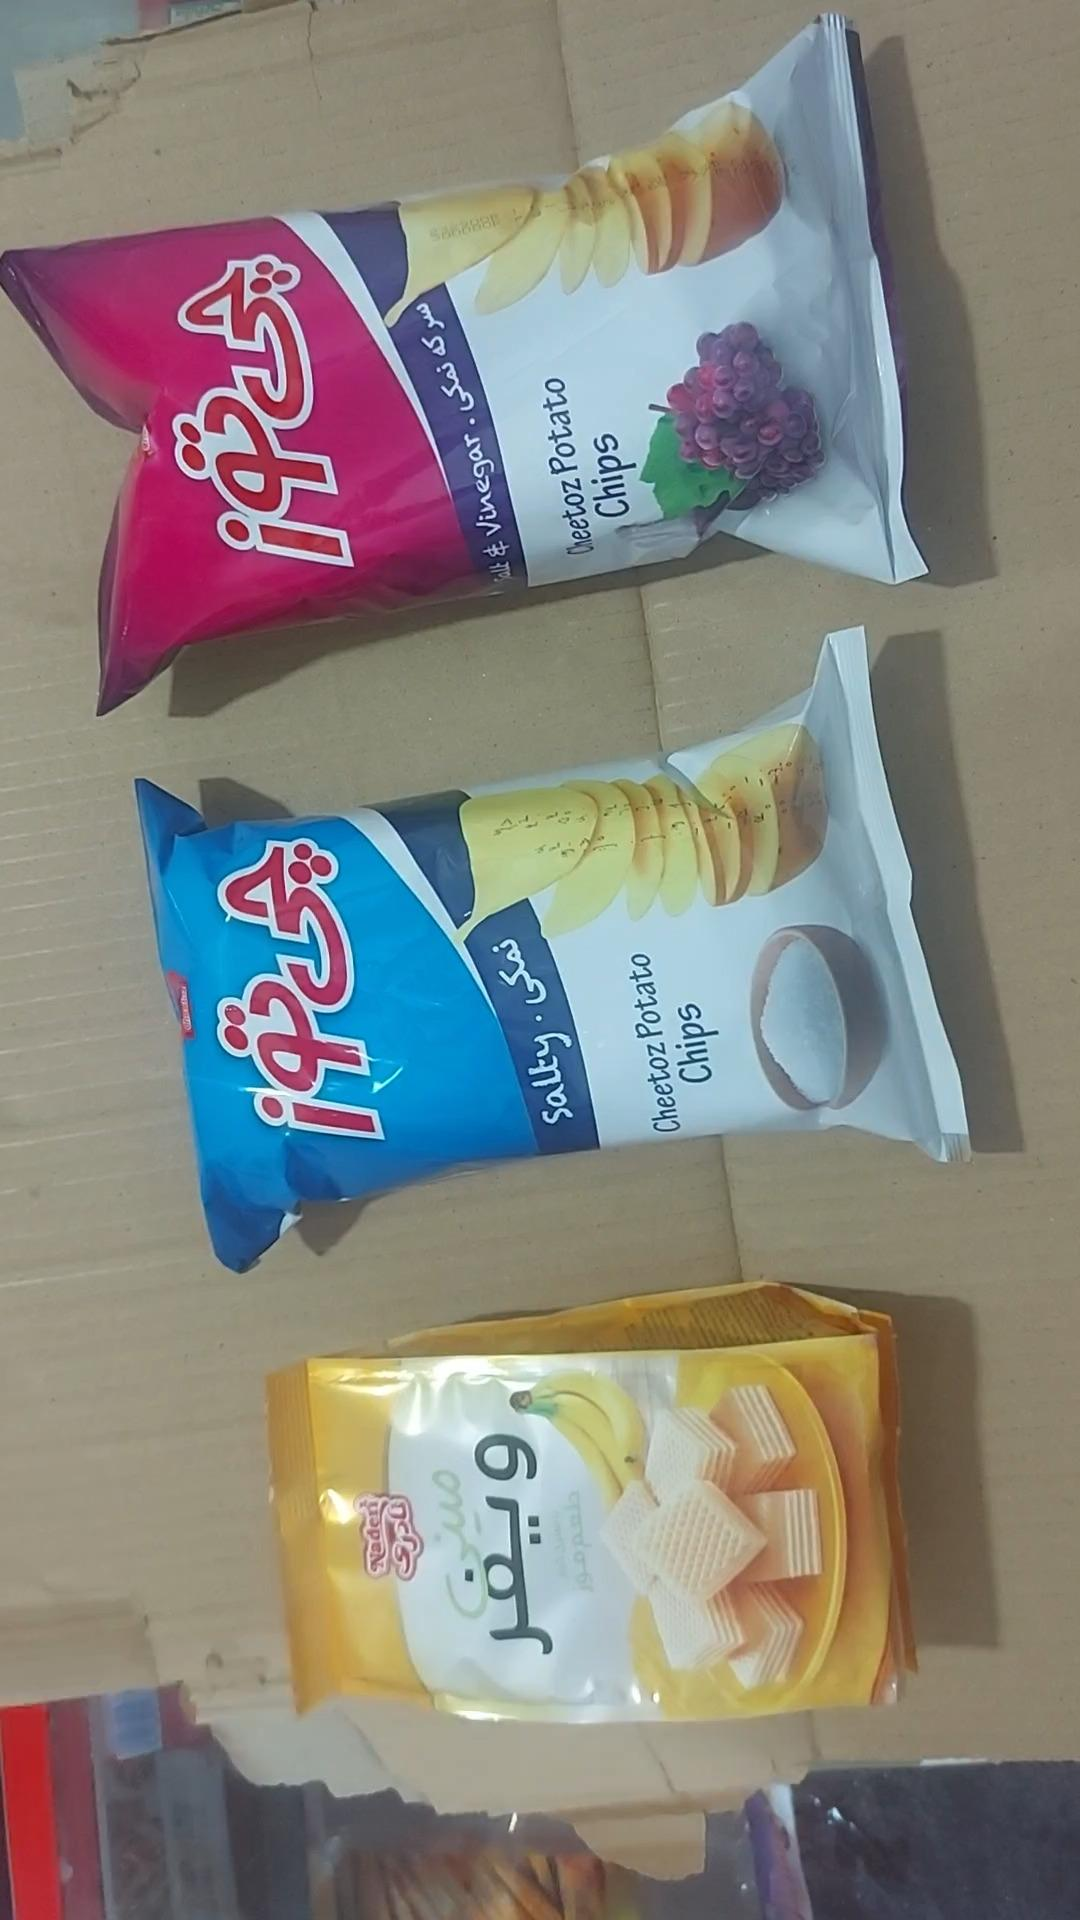Cheetoz salty chips: (131, 626, 971, 1276)
Cheetoz vinegar chips: (0, 16, 930, 715)
Naderi mini wafer: (262, 1280, 918, 1727)
